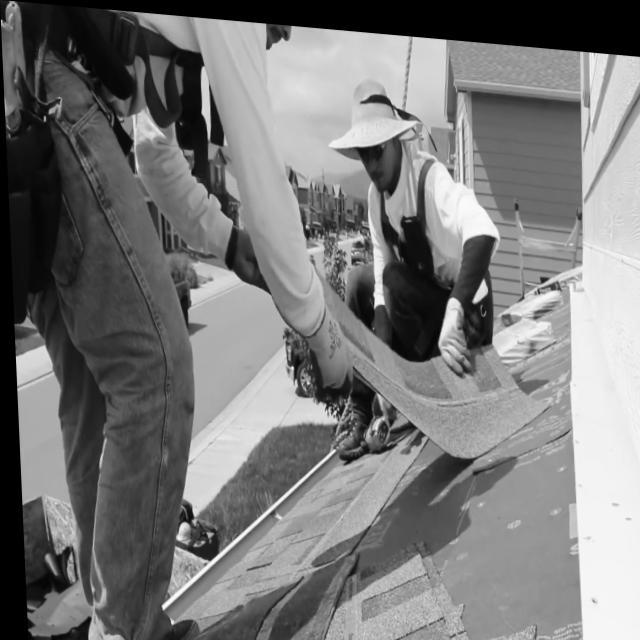belt: (31, 2, 232, 166), (368, 136, 498, 342)
